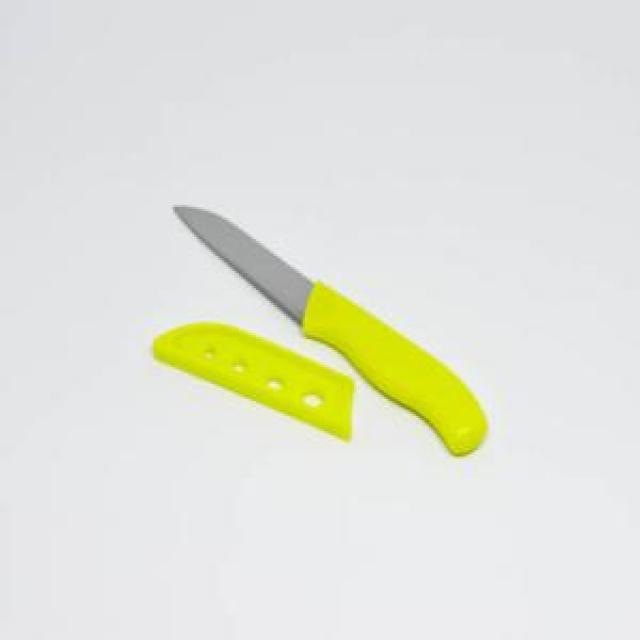knife: (170, 202, 490, 460)
